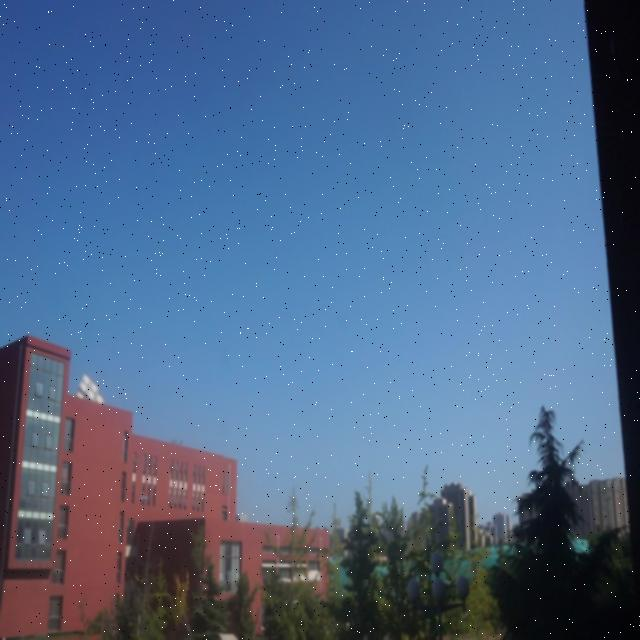UAV: (139, 496, 151, 500)
